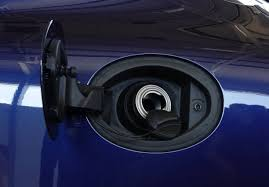open: (83, 51, 227, 154)
